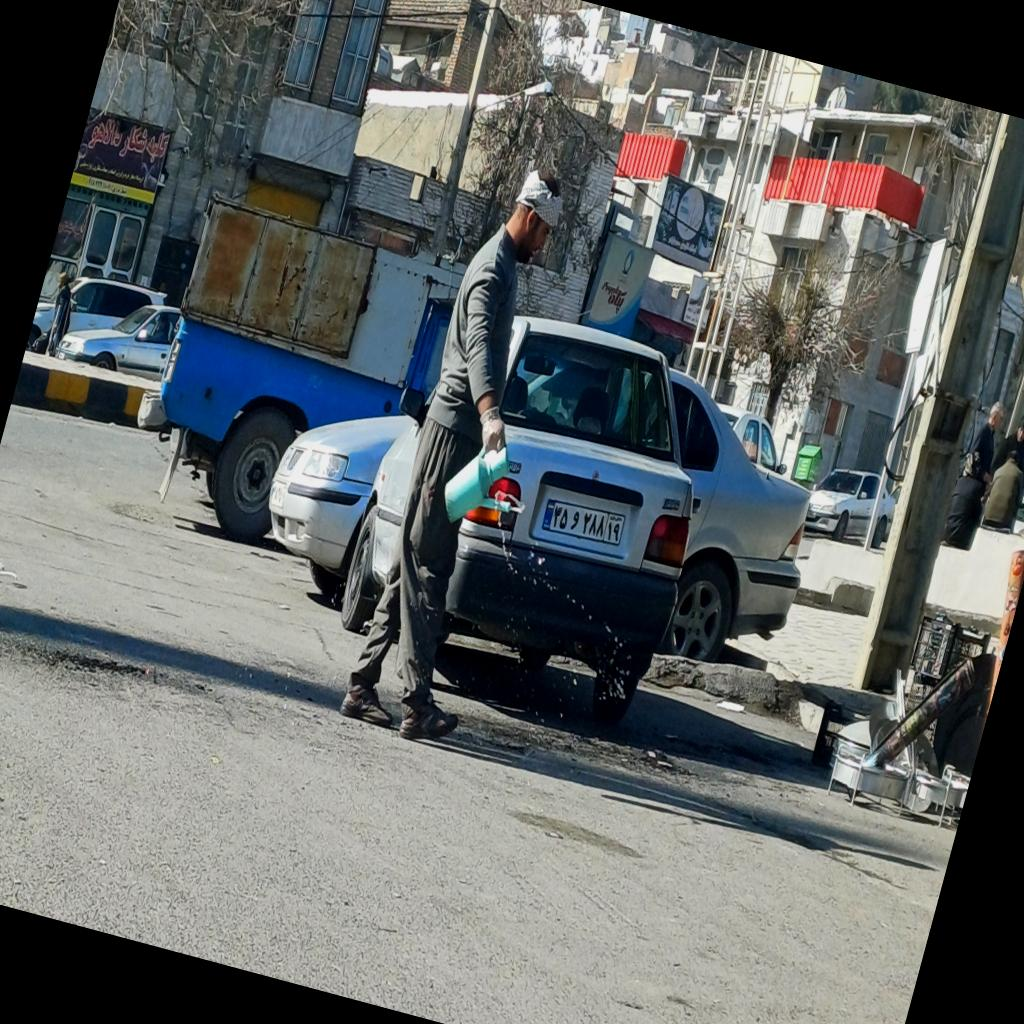Plates: (540, 495, 626, 550)
